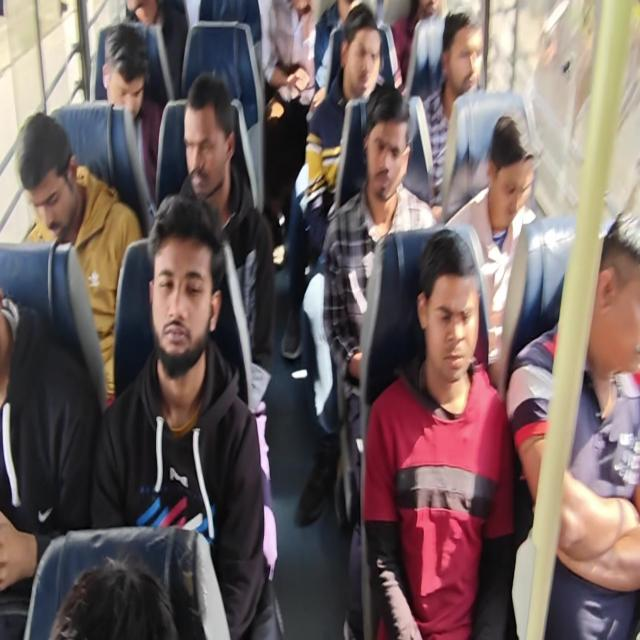person: (402, 221, 510, 382), (142, 194, 216, 380), (59, 541, 184, 640), (12, 106, 92, 243), (591, 206, 640, 398), (173, 83, 243, 192), (477, 108, 538, 218), (329, 12, 391, 96), (366, 121, 418, 217), (102, 21, 144, 118), (442, 14, 480, 94)
